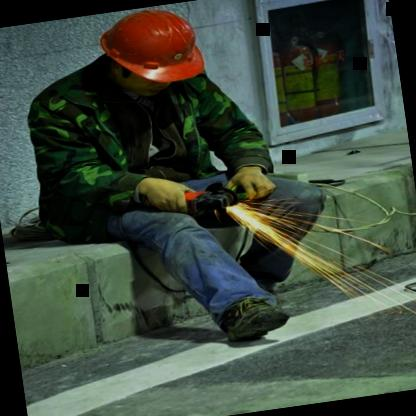helmet: (84, 0, 220, 109)
